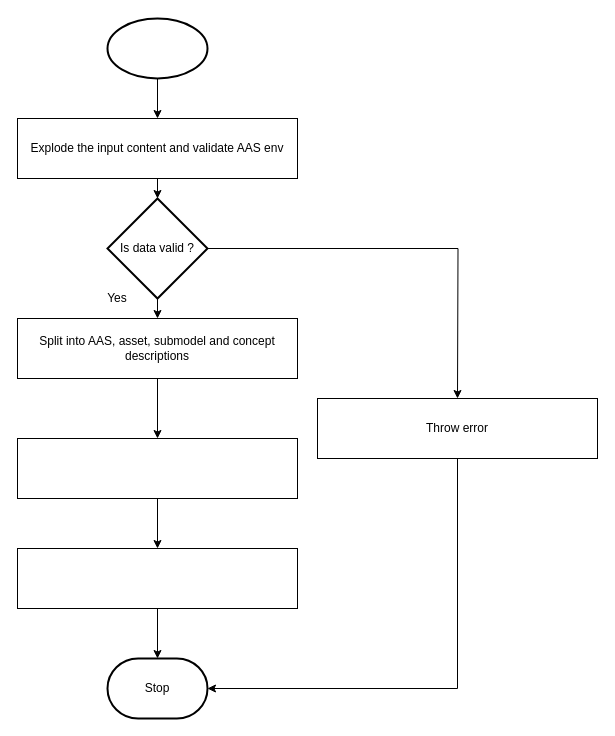
This 615x736 diagram has some shape labels left out. Each missing label, with the centre of its shape:
Push data to message bus for all subscribers: the point at 157,468
start: the point at 157,48
Update relation graph and add/update data in DB and cache: the point at 157,578
